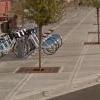Bicycle: (1, 22, 63, 62)
